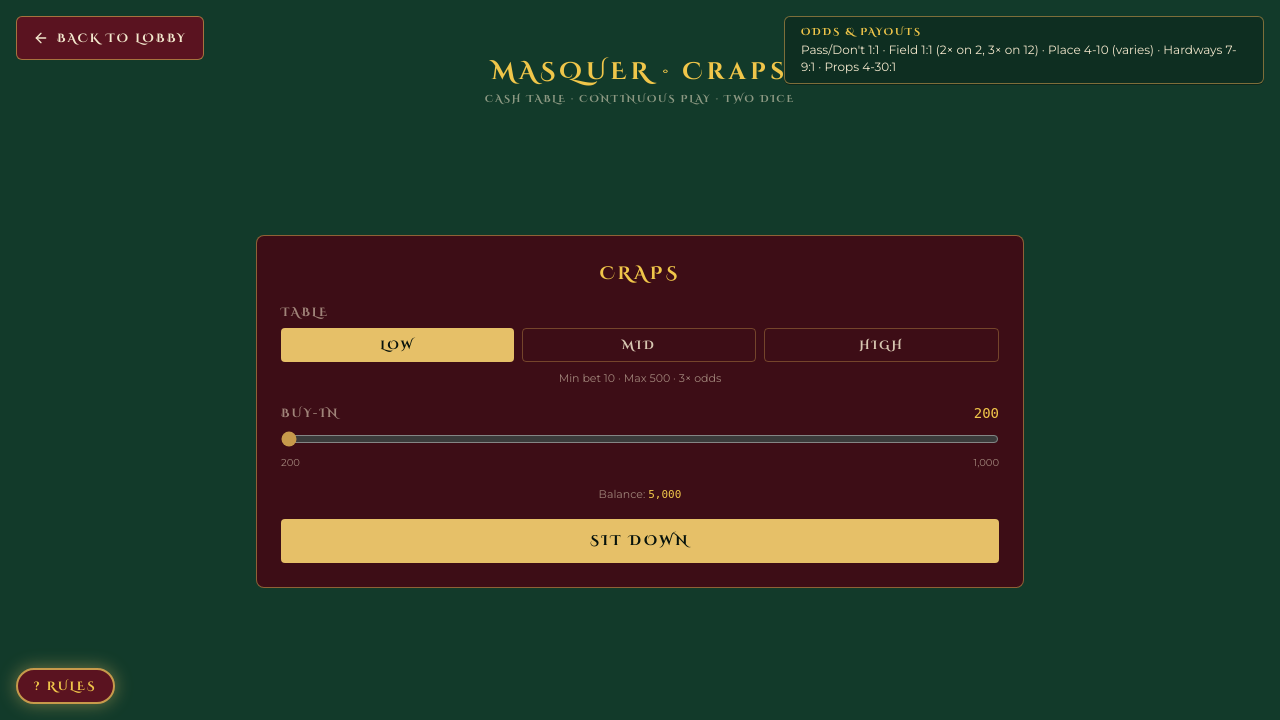
Test: CrapsPage › full session: sit → pass-line → roll point → roll again → win → CONFIRM LEAVE → rounds row
Click the button "SIT DOWN": (640, 541) [281,519,999,563]
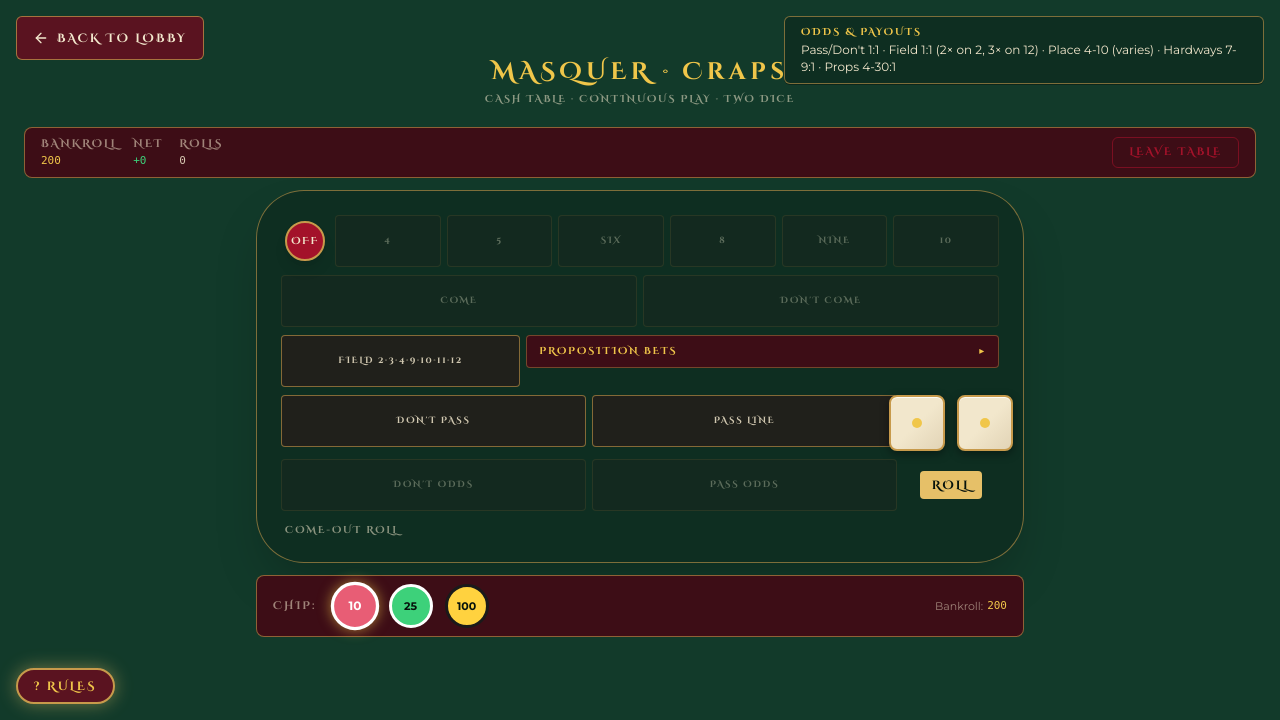
Check: the button "ROLL" is shown, box [920,471,982,499]
Check: the button "Pass Line" is shown
Click the button "Pass Line": (744, 421) [592,395,897,447]
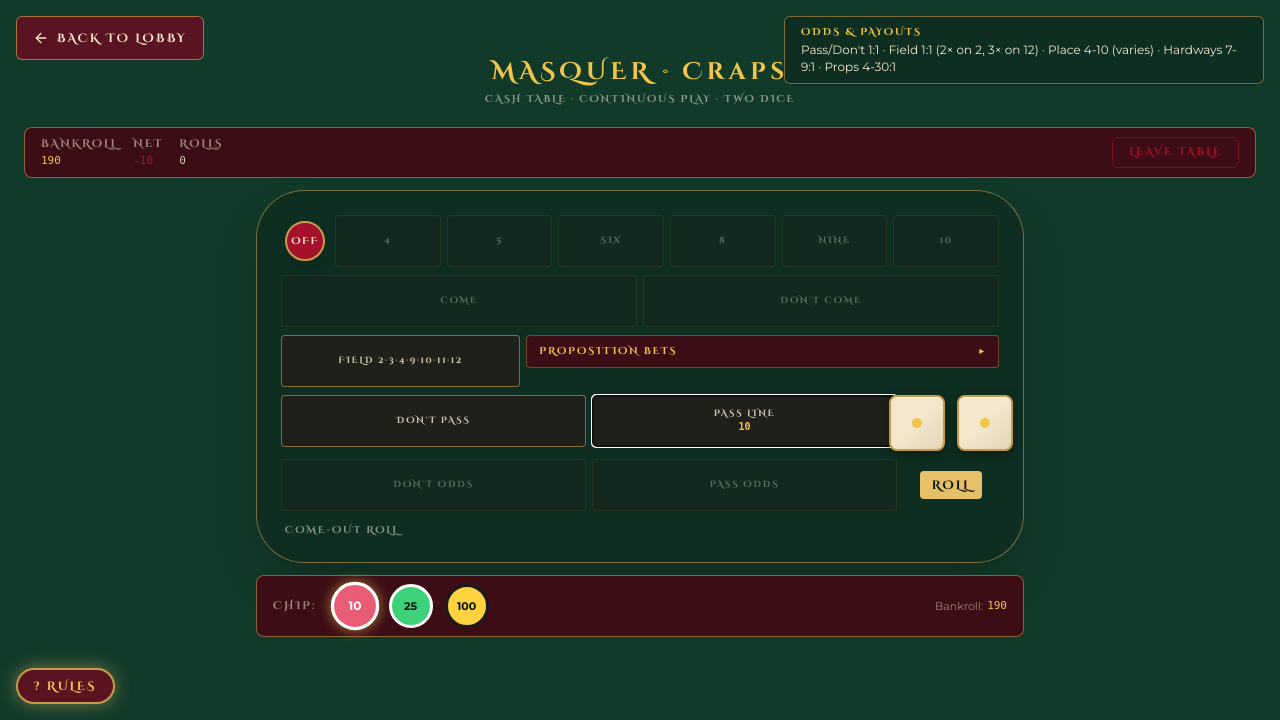
Click the button "ROLL": (951, 485) [920,471,982,499]
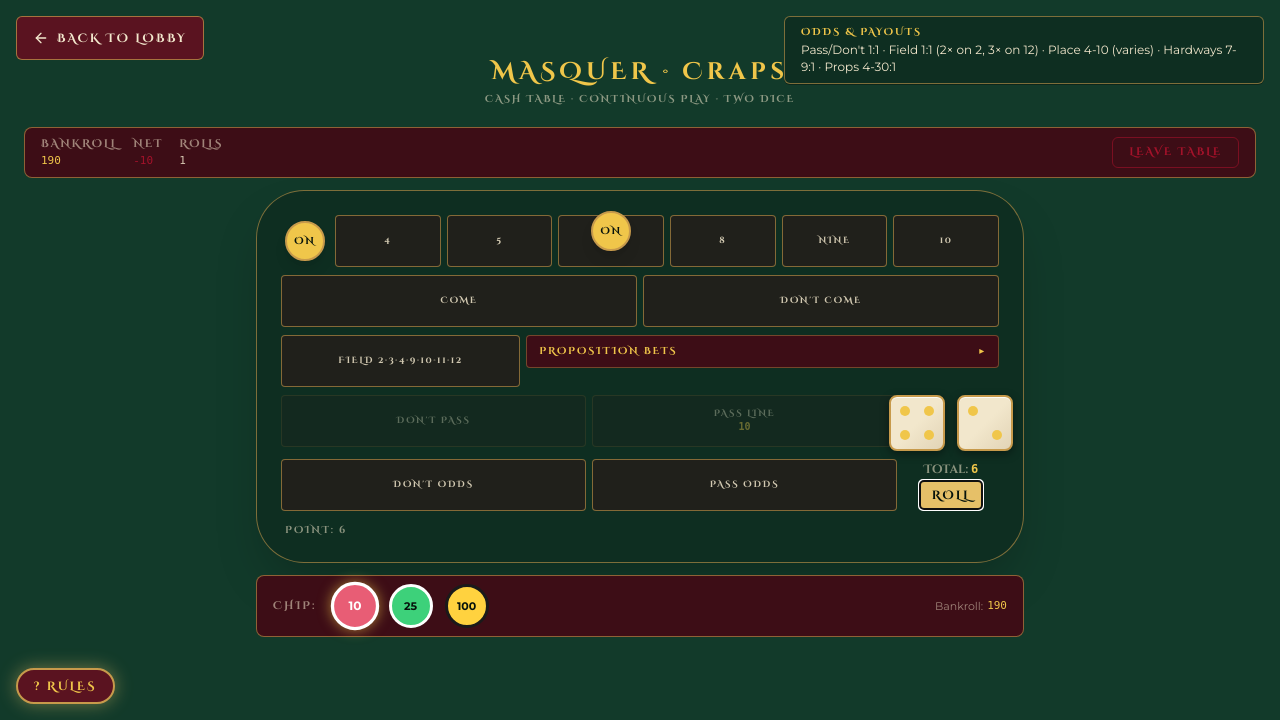
Click the button "ROLL": (951, 495) [920,481,982,509]
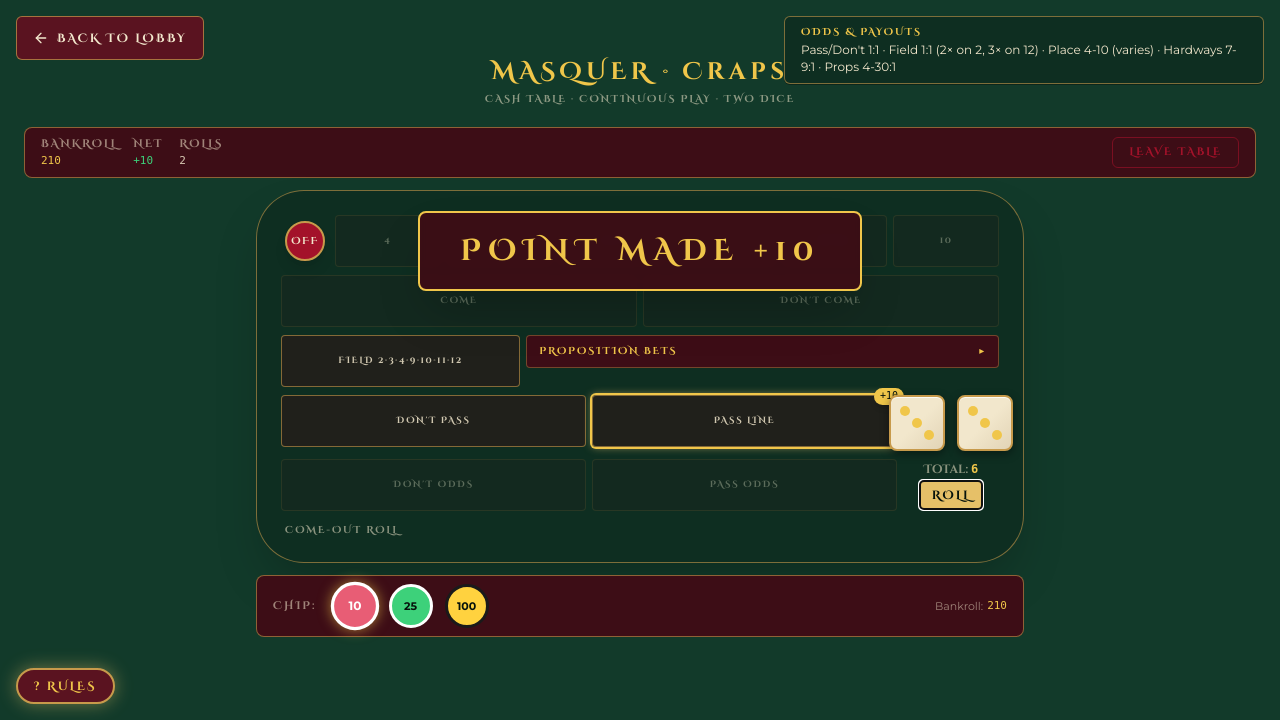
Click the button "LEAVE TABLE": (1176, 153) [1112,137,1239,168]
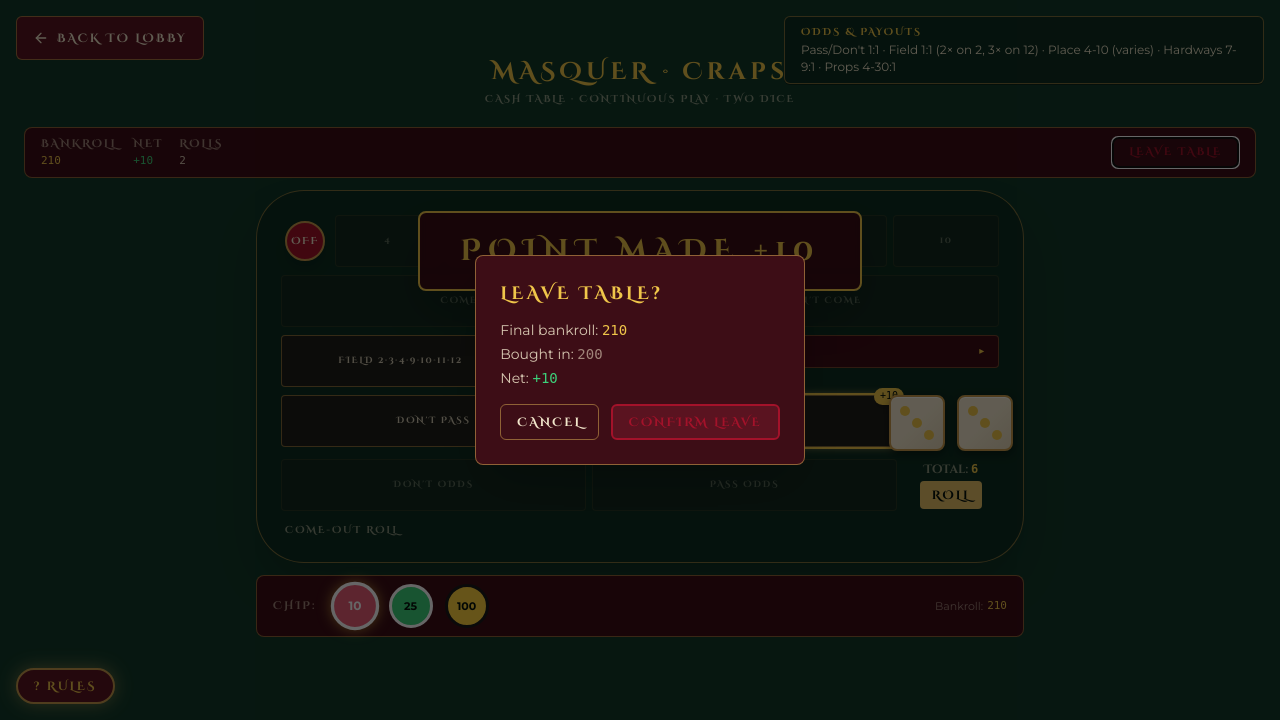
Check: the heading "LEAVE TABLE?" is shown, box [500,281,663,306]
Click the button "CONFIRM LEAVE": (695, 422) [611,404,780,440]
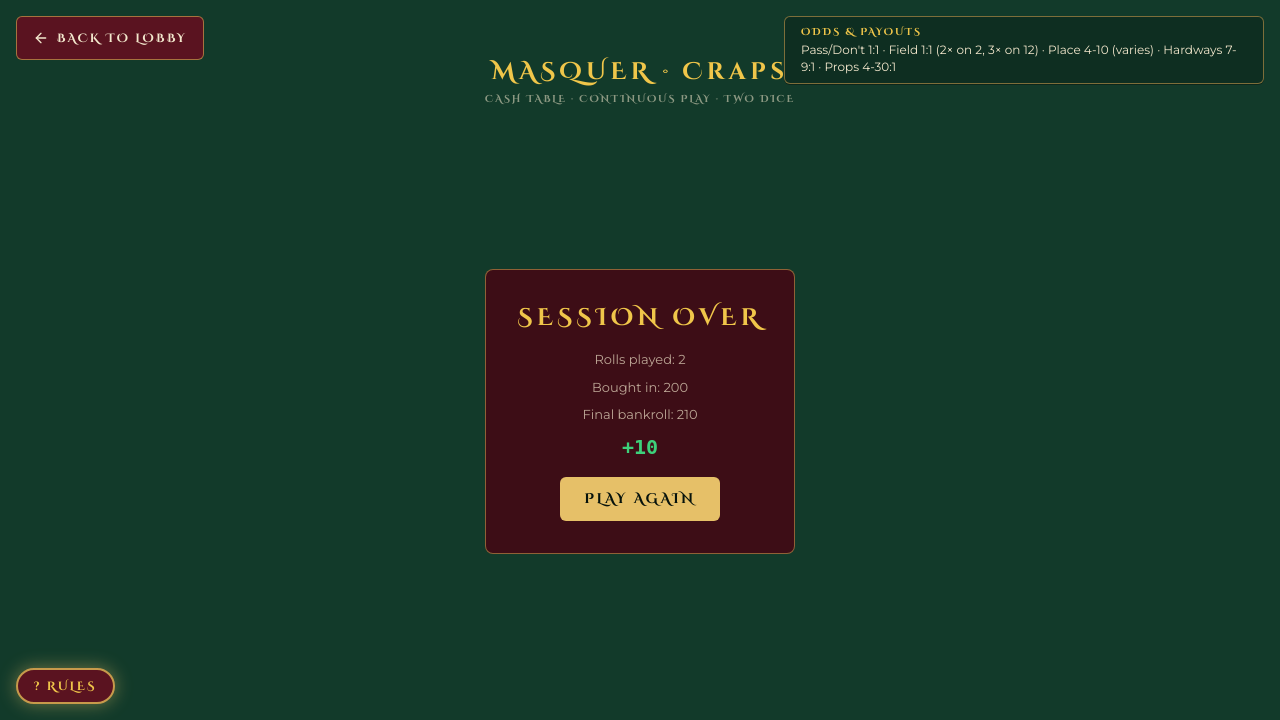
Check: the heading "SESSION OVER" is shown, box [518,302,762,334]
